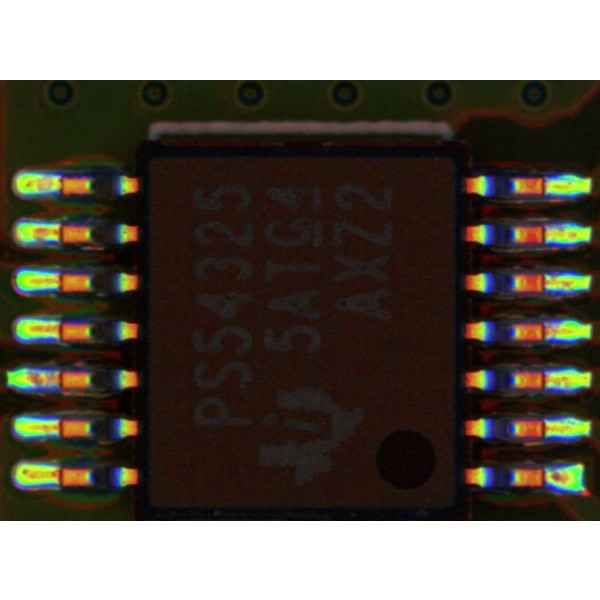Bad_podu: (42, 227, 78, 240), (39, 324, 76, 336), (39, 277, 78, 288), (42, 375, 77, 387), (41, 424, 81, 434), (531, 374, 561, 387), (43, 471, 79, 481), (531, 327, 561, 339), (531, 423, 559, 435), (531, 278, 561, 289)
